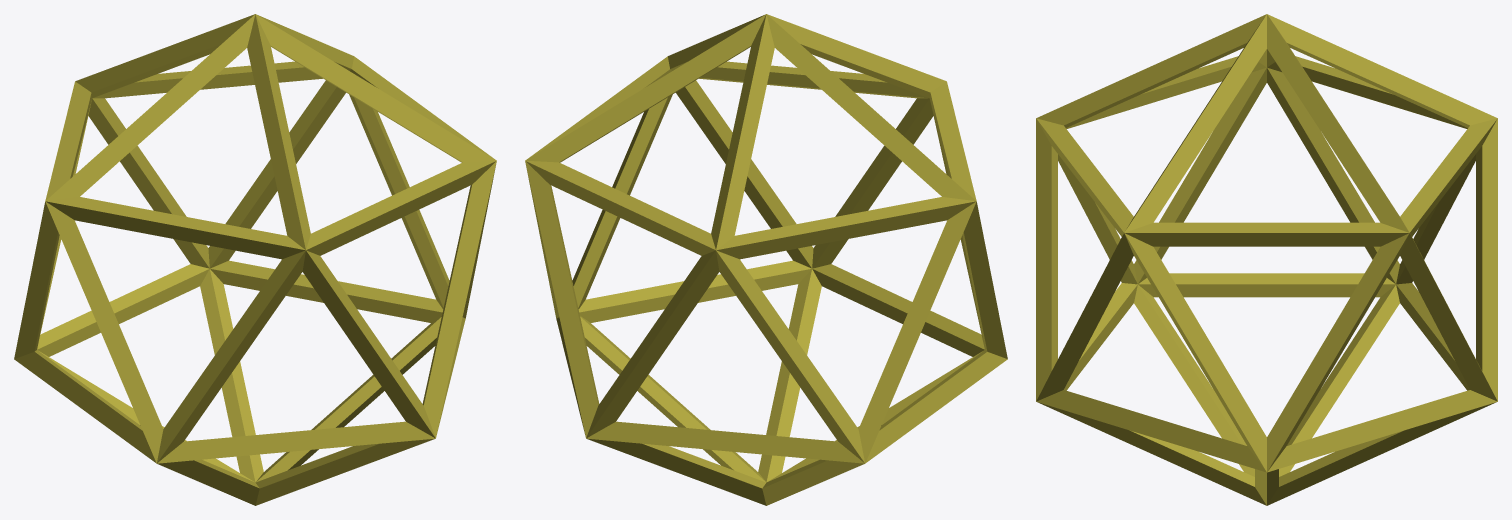
File: goal.obj
3 views of the same model, side by side, from view 1: azimuth 30°, elevation 25°; view 2: azimuth 150°, elevation 25°; view 3: azimuth 270°, elevation 25° (orthographic).
Visible parts, largest first — view 1: ICO球; view 2: ICO球; view 3: ICO球.
Boxes of the visible parts, <box> form: ICO球: <box>14,14,496,505</box>; ICO球: <box>525,14,1007,505</box>; ICO球: <box>1036,14,1497,505</box>.
Size of the model in its own units: 1.88 by 2.1 by 1.79.
Materials: 1 (1 with a texture image).
